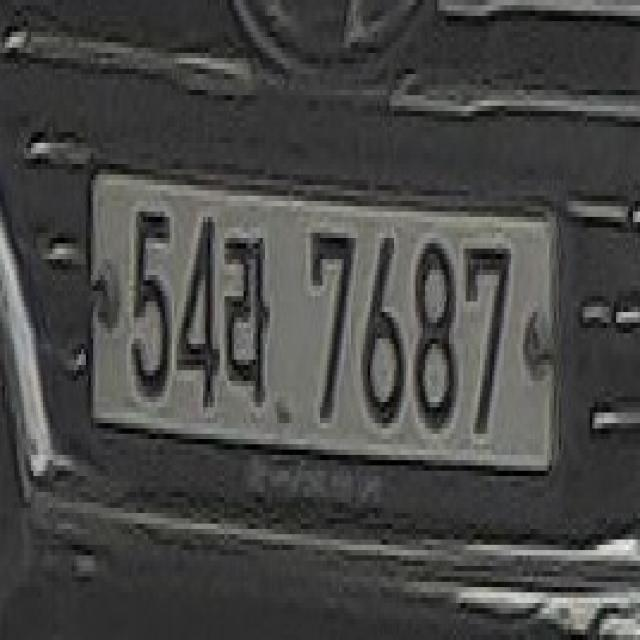4: (172, 201, 222, 423)
5: (124, 170, 177, 408)
6: (356, 232, 408, 433)
7: (303, 196, 358, 439), (461, 217, 516, 460)
8: (408, 228, 458, 450)
la: (215, 228, 272, 408)
license_plate: (79, 169, 571, 482)
